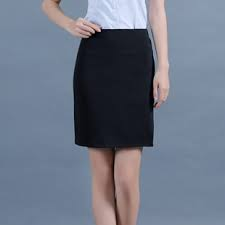F_tailored skirt: (66, 23, 161, 161)
